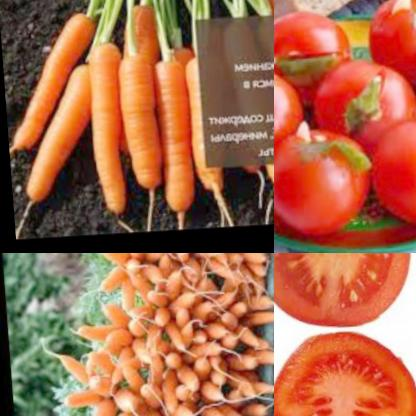carrot: (53, 253, 274, 416), (4, 57, 105, 223), (0, 5, 103, 167), (69, 34, 132, 231), (106, 39, 163, 223), (146, 46, 198, 231), (181, 47, 227, 223), (114, 0, 161, 62), (252, 0, 274, 23)
tomato: (274, 332, 415, 416), (274, 123, 368, 242), (274, 253, 413, 332), (308, 63, 415, 161), (274, 4, 358, 110), (365, 112, 416, 233), (359, 0, 416, 78), (274, 64, 299, 180)
